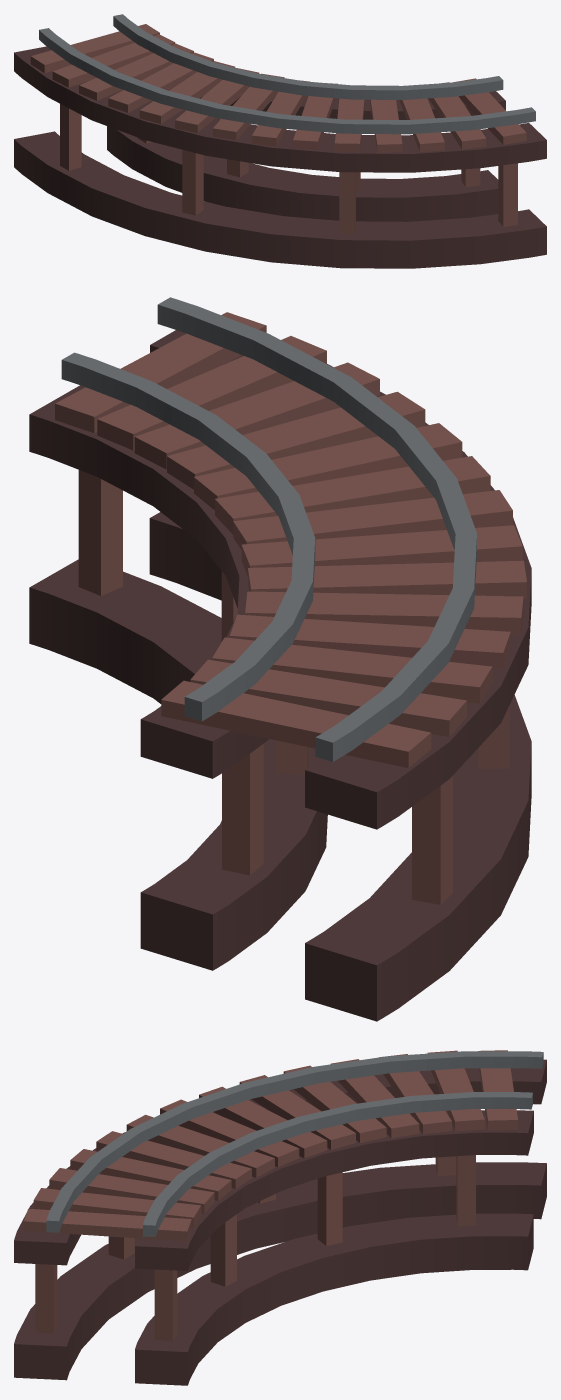
The model's file is DarkRoseWoodMechSmall0_96GaugeLeftTurn1.fbx.
3 renders of one model, top to bottom at view 1: azimuth 30°, elevation 25°; view 2: azimuth 150°, elevation 25°; view 3: azimuth 270°, elevation 25°, orthographic. The views are drawn at different scales.
Parts seen in each view (by area): view 1: DarkRoseWoodMechSmall0_96GaugeLeftTurn1; view 2: DarkRoseWoodMechSmall0_96GaugeLeftTurn1; view 3: DarkRoseWoodMechSmall0_96GaugeLeftTurn1.
Boxes of the visible parts, <box> form: DarkRoseWoodMechSmall0_96GaugeLeftTurn1: <box>14,14,546,268</box>; DarkRoseWoodMechSmall0_96GaugeLeftTurn1: <box>29,297,531,1021</box>; DarkRoseWoodMechSmall0_96GaugeLeftTurn1: <box>14,1050,546,1385</box>.
Bounding box in the file's own units: 567 × 221 × 673.
